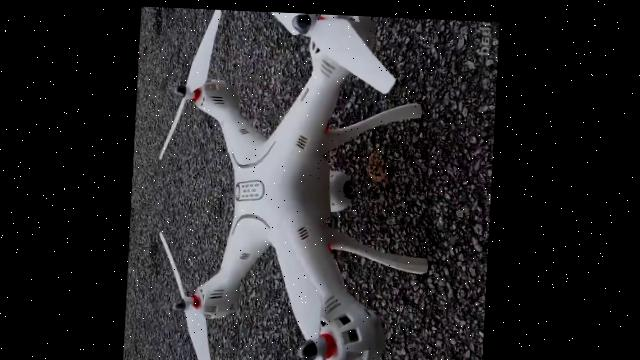drone: (148, 6, 441, 360)
